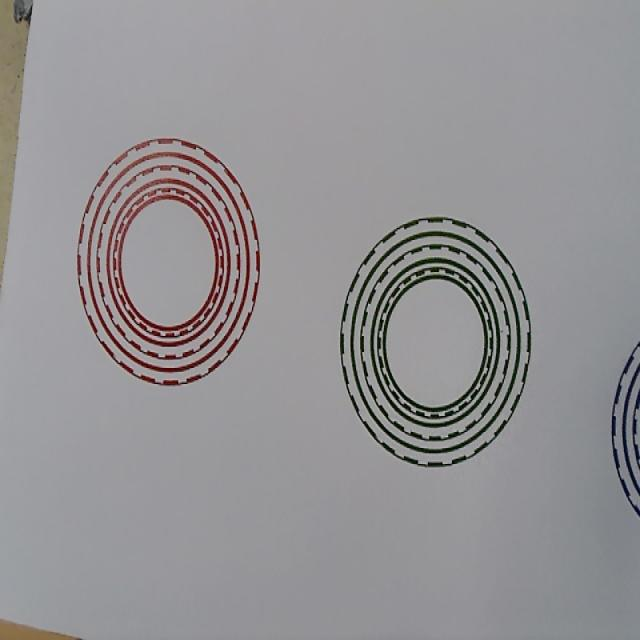g: (339, 215, 532, 469)
red-green-blue: (77, 137, 261, 386)
